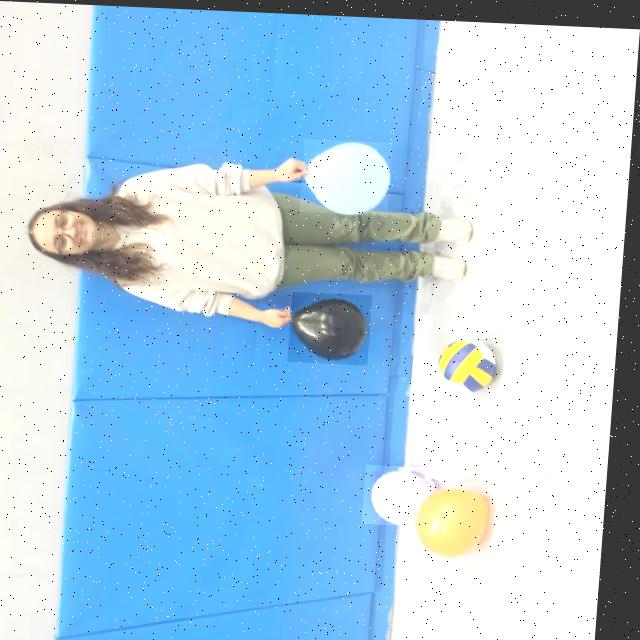balloon: (417, 475, 505, 561), (303, 135, 395, 211), (293, 288, 377, 361), (370, 460, 440, 521)
